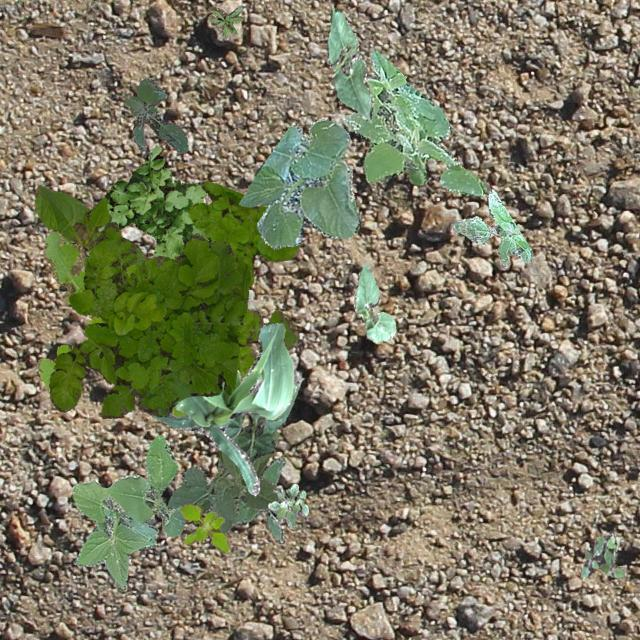crop: (150, 322, 296, 494), (238, 119, 360, 248), (166, 430, 278, 534), (34, 184, 146, 266), (224, 379, 298, 462), (326, 6, 371, 120), (352, 264, 394, 342)
weed: (48, 222, 250, 418), (36, 228, 186, 416), (188, 180, 298, 376), (342, 48, 486, 195), (72, 433, 185, 588), (62, 146, 208, 258), (452, 188, 530, 266), (124, 76, 188, 152), (232, 457, 284, 542), (180, 502, 230, 552), (580, 532, 624, 576), (266, 482, 308, 528), (208, 5, 242, 38)
